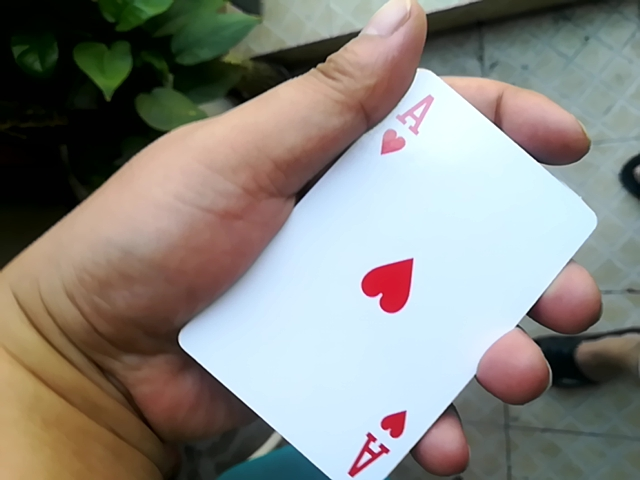hx a: (160, 52, 602, 478)
